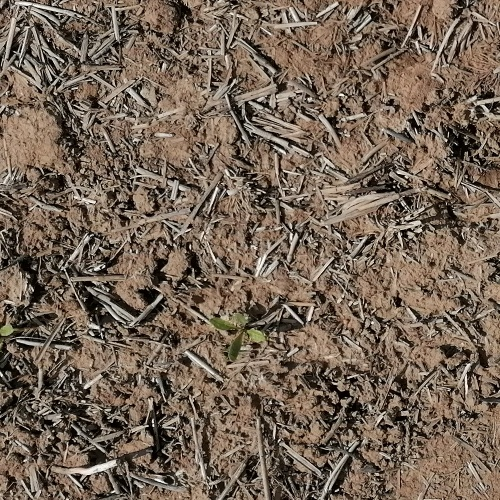beet: (210, 311, 265, 363)
